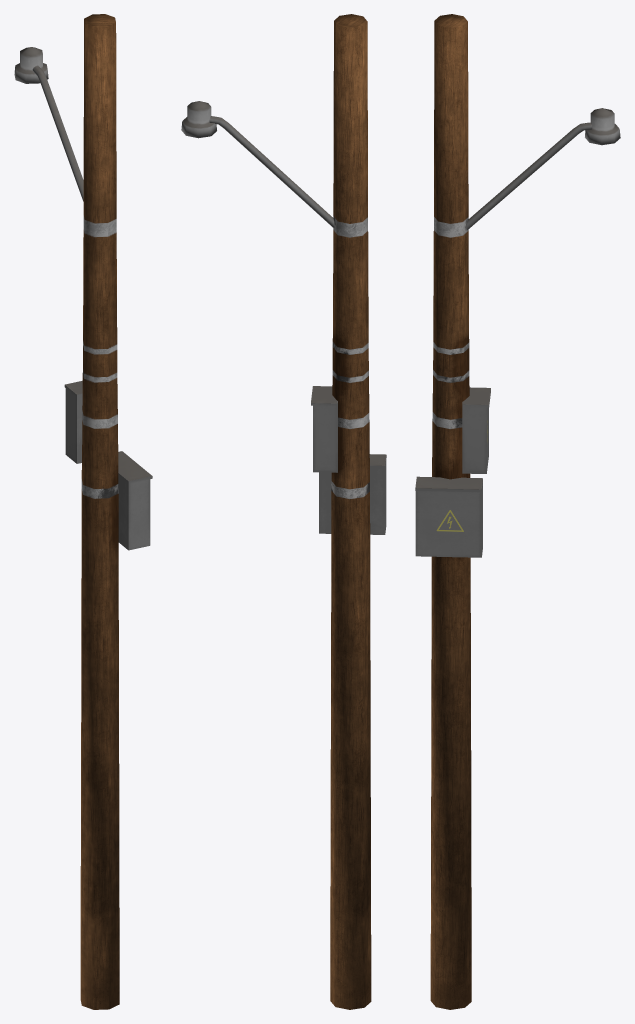
The model's file is poste_sinAlarma.fbx.
3 views of the same model, side by side, from view 1: azimuth 90°, elevation 25°; view 2: azimuth 150°, elevation 25°; view 3: azimuth 330°, elevation 25° (orthographic).
Visible parts, largest first — view 1: Poste_low.001; view 2: Poste_low.001; view 3: Poste_low.001.
Part boxes in pixels (x1,y1,x2,y2): Poste_low.001: (14, 14, 152, 1009); Poste_low.001: (181, 14, 386, 1009); Poste_low.001: (415, 14, 620, 1009).
Bounding box in the file's own units: 156 × 961 × 123.
